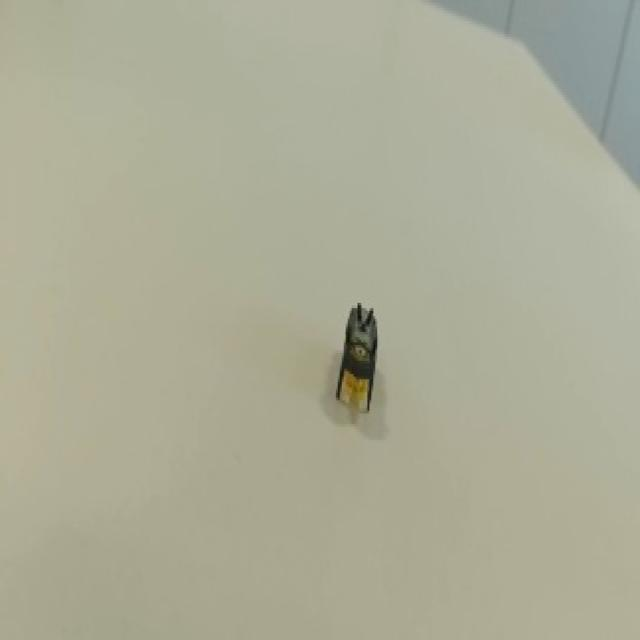6_NanoBug_GrisOscuro: (309, 273, 420, 444)
